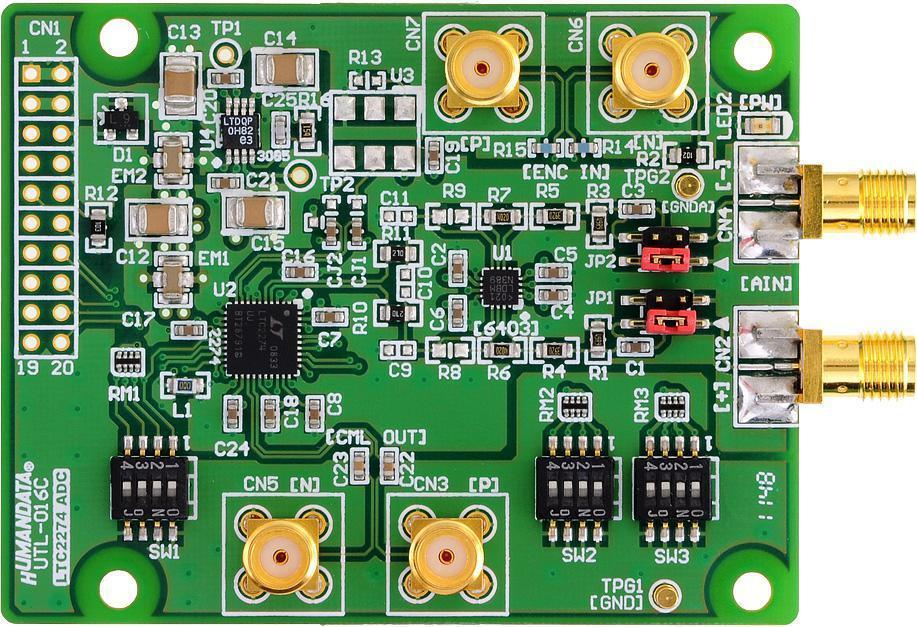Capacitor: (223, 192, 287, 232), (161, 52, 199, 119), (254, 51, 318, 90), (128, 201, 190, 239), (617, 337, 654, 358), (313, 308, 348, 327), (449, 251, 467, 287), (536, 263, 570, 282), (306, 396, 324, 431), (284, 263, 318, 281), (538, 286, 571, 304), (211, 174, 243, 192), (224, 397, 241, 430), (450, 296, 466, 331), (381, 449, 397, 484), (620, 201, 654, 217), (263, 396, 278, 432), (351, 449, 367, 482), (175, 323, 207, 339), (427, 138, 442, 172), (211, 72, 241, 87), (274, 115, 287, 147)
Capacitor Jumper: (303, 193, 342, 252), (348, 194, 366, 249)
Connector: (735, 142, 917, 261), (735, 308, 917, 426), (20, 62, 78, 357), (225, 494, 344, 615), (425, 14, 542, 134), (588, 15, 705, 132), (389, 494, 505, 612), (614, 288, 718, 309), (614, 227, 709, 249)
Diode: (92, 94, 148, 146)
EM: (154, 135, 192, 187), (156, 254, 191, 306)
IC: (222, 299, 302, 380), (218, 97, 260, 167), (479, 266, 523, 309)
Inductor: (160, 370, 211, 402)
Jumper: (615, 309, 712, 335), (618, 247, 713, 273)
Led: (740, 113, 789, 137)
Pads: (332, 93, 418, 176), (424, 202, 475, 232), (425, 338, 476, 363), (378, 341, 417, 361), (378, 208, 417, 225), (397, 265, 415, 299)
Resistor Jumper: (559, 394, 592, 421), (656, 395, 687, 421), (113, 349, 143, 375)
Resistor Network: (665, 143, 712, 168), (480, 204, 526, 229), (375, 241, 421, 266), (375, 301, 421, 325), (530, 339, 578, 362), (87, 204, 110, 251), (479, 339, 526, 362), (532, 204, 577, 228), (587, 315, 609, 364), (588, 201, 610, 248), (298, 108, 318, 153), (566, 139, 602, 156), (529, 138, 564, 155)
Switch: (105, 433, 198, 542), (530, 434, 622, 544), (632, 436, 720, 544)
Test Point: (648, 578, 682, 613), (207, 37, 243, 70), (287, 162, 313, 189), (677, 171, 702, 199)
